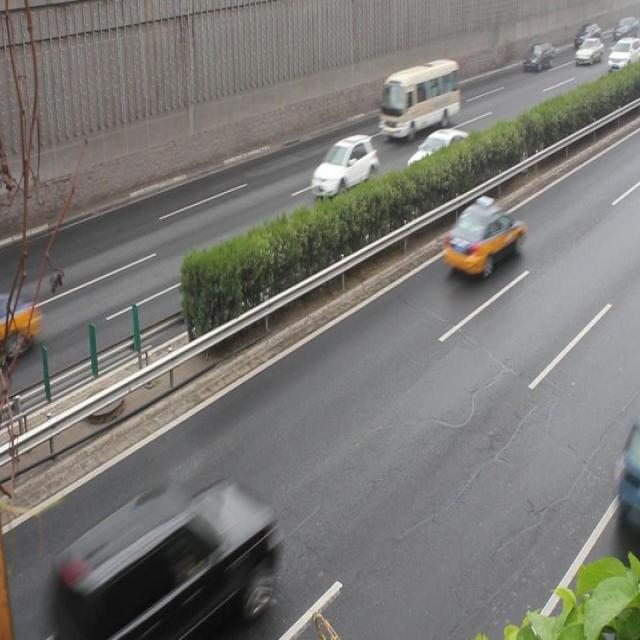car: (64, 474, 275, 640), (440, 201, 524, 277), (310, 133, 378, 201), (404, 128, 474, 191)
van: (378, 61, 459, 138)
